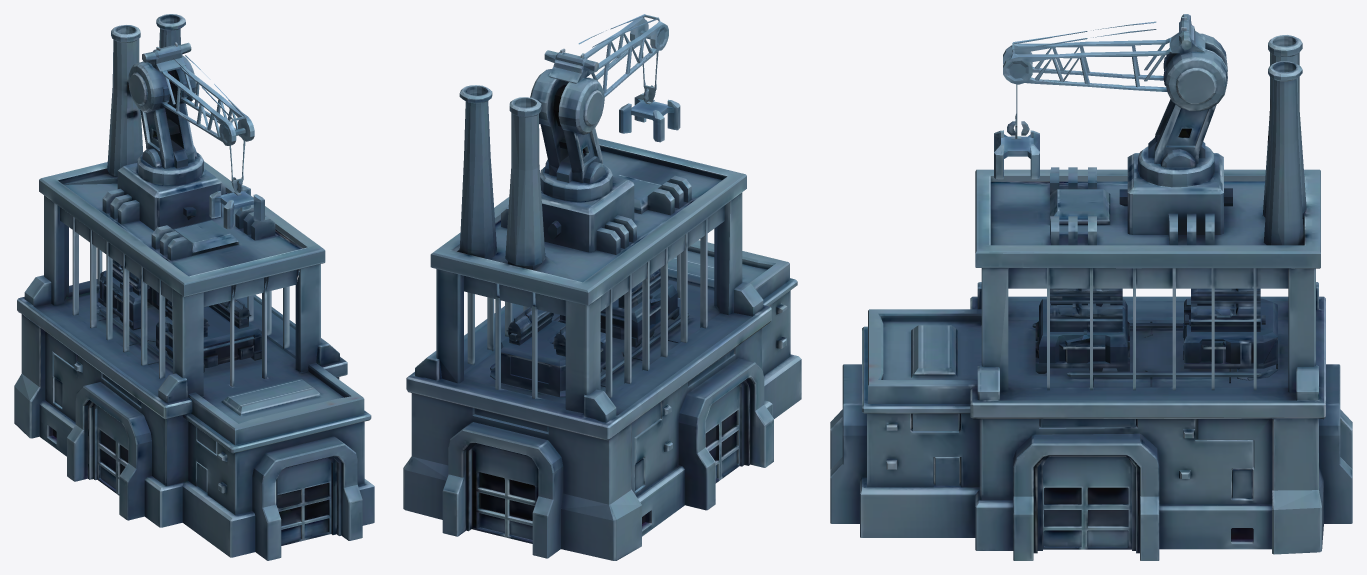
Rendered from forge_LOD0.glb.
The picture shows the model from 3 angles, left to right: view 1: azimuth 30°, elevation 25°; view 2: azimuth 150°, elevation 25°; view 3: azimuth 270°, elevation 25°; orthographic projection. The views are drawn at different scales.
Parts seen in each view (by area): view 1: forge_LOD0; view 2: forge_LOD0; view 3: forge_LOD0.
Part boxes in pixels (x1,y1,x2,y2): forge_LOD0: [14, 14, 374, 560]; forge_LOD0: [403, 14, 801, 560]; forge_LOD0: [830, 14, 1352, 560].
Size of the model in its own units: 0.5846 by 0.9925 by 0.9925.
1 material, 1 textured.
